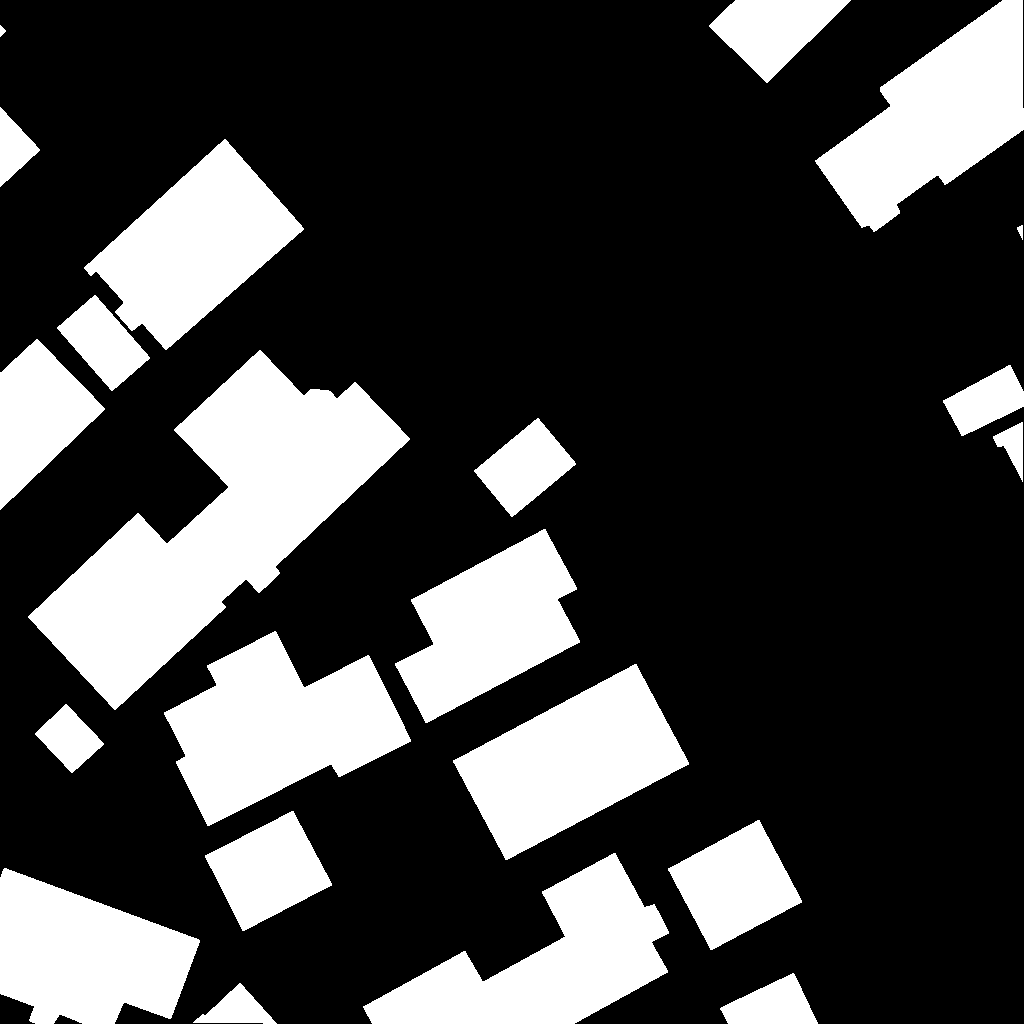building: (28, 350, 411, 711), (363, 853, 670, 1024), (815, 0, 1024, 233), (164, 631, 412, 827), (84, 139, 305, 351), (453, 664, 690, 861), (395, 529, 581, 724), (0, 868, 201, 1024), (0, 339, 106, 511), (668, 820, 803, 951), (205, 811, 333, 932), (709, 0, 852, 84), (474, 418, 577, 518), (57, 295, 151, 392), (943, 365, 1024, 437), (720, 973, 819, 1024), (35, 704, 105, 774), (193, 983, 278, 1024), (0, 107, 41, 188), (993, 422, 1024, 483), (1017, 225, 1024, 241), (0, 25, 7, 38)
